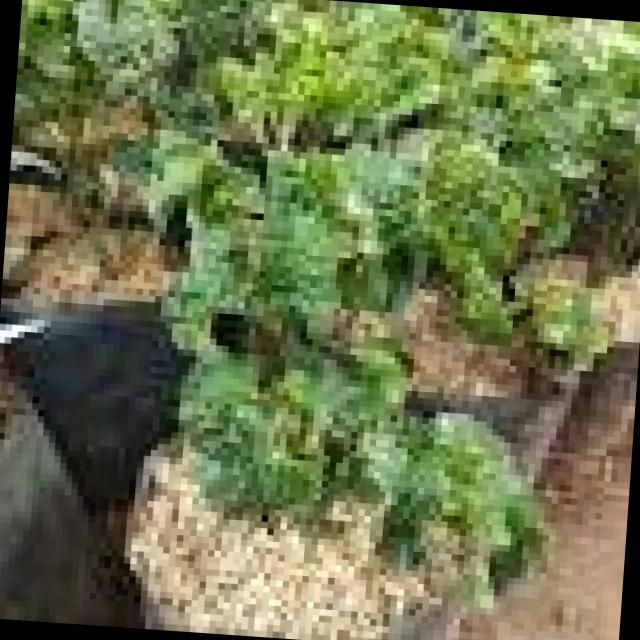Chilli_Leaf_Curl: (0, 0, 640, 640), (0, 291, 193, 509)
